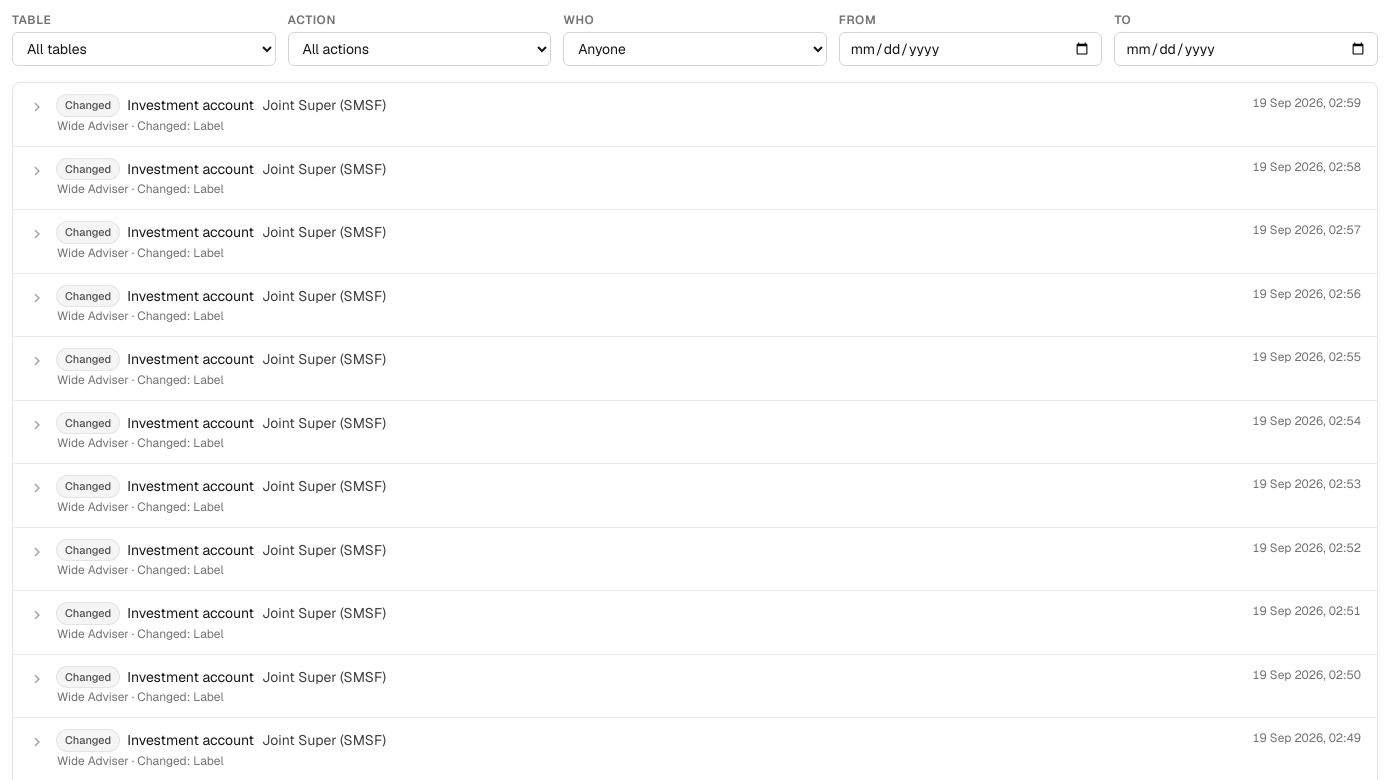
Test: paging and filters › a filter change replaces the list from the top, with no cursor
Select "Staff member" in the dropdown labelled "Table" at (144, 49), box [12,32,276,66]
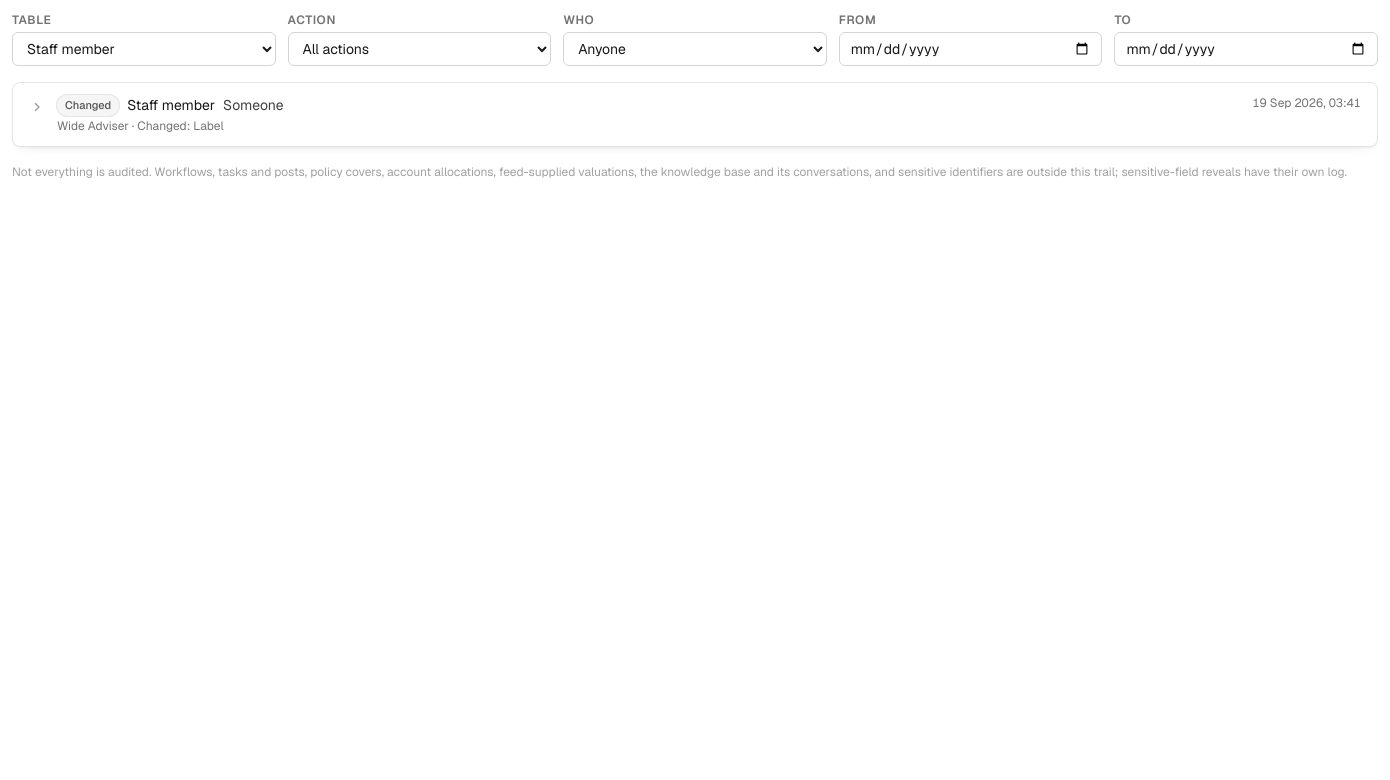
Now the list item shows "Staff member", box [13,83,1377,146]
